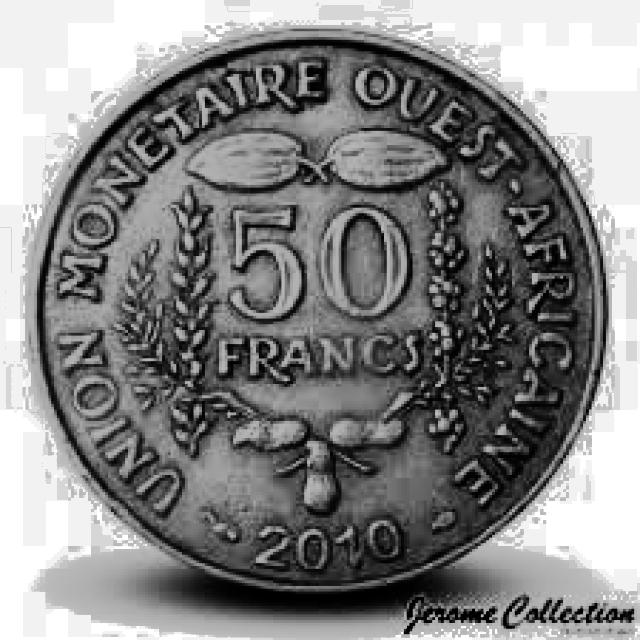fukk: (31, 35, 604, 589)
